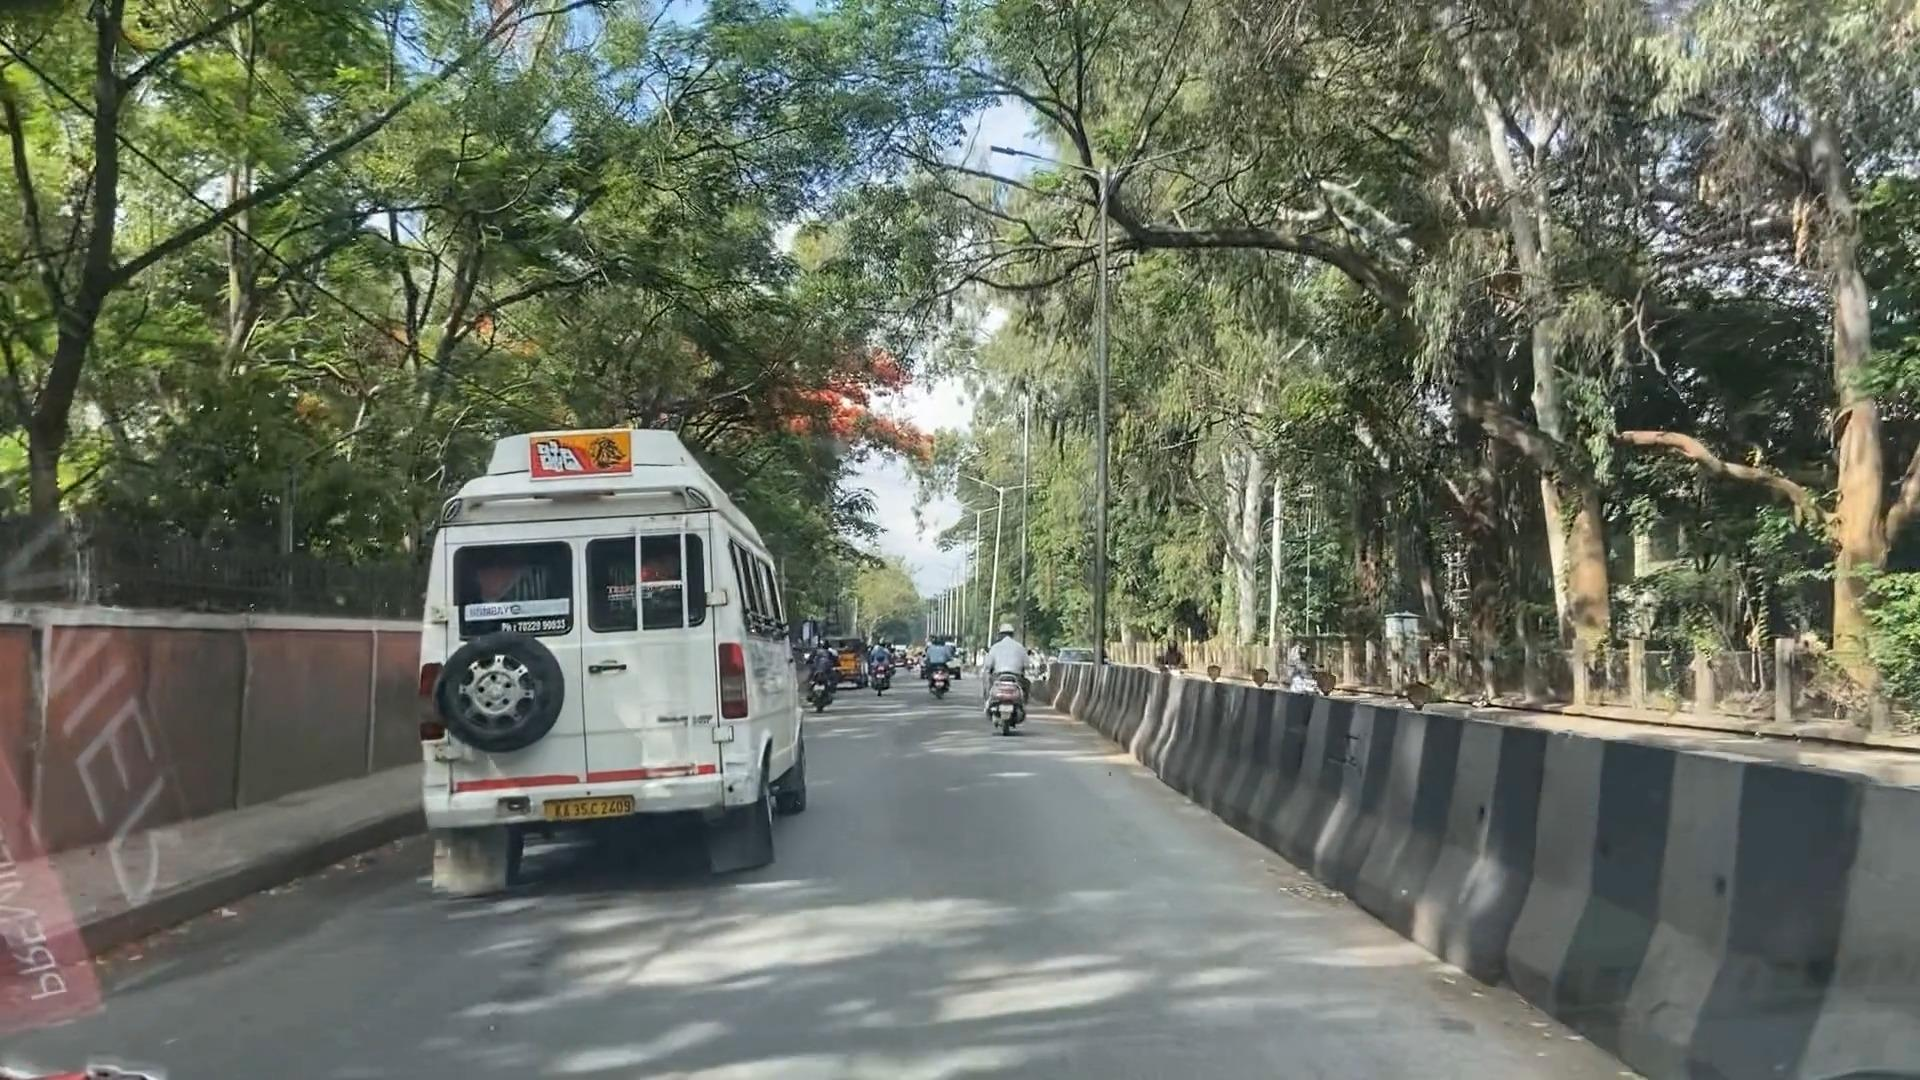HMV: (371, 406, 814, 874)
